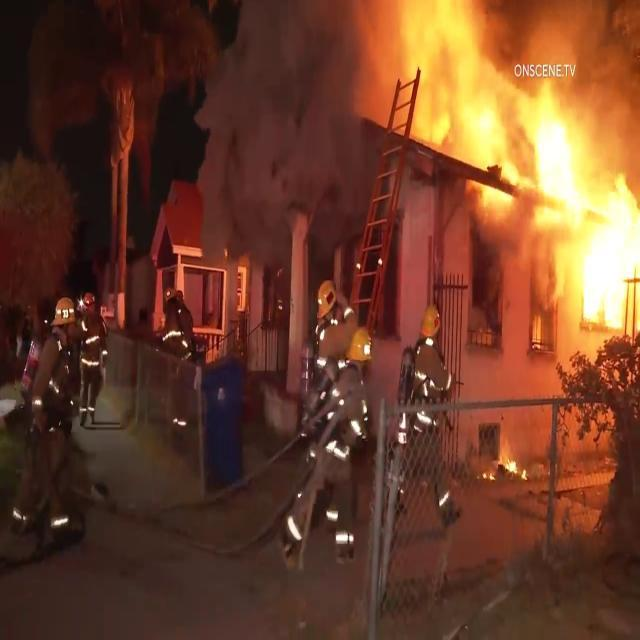Fire: (533, 99, 640, 370)
Smoke: (233, 9, 385, 238)
